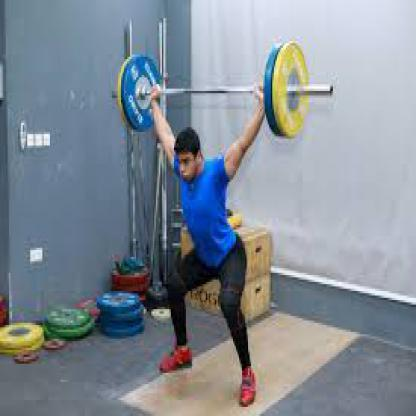Barbell: (261, 34, 317, 144)
